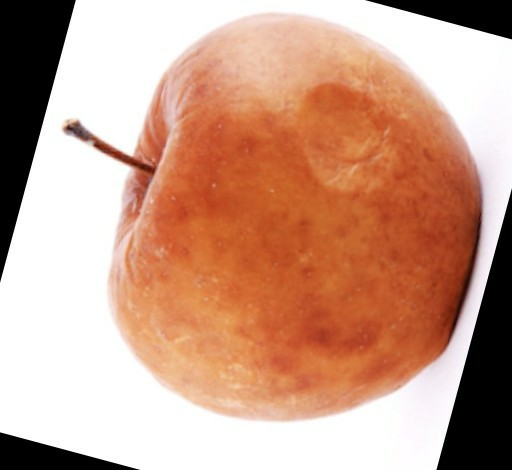fresh_apple: (107, 13, 482, 421)
